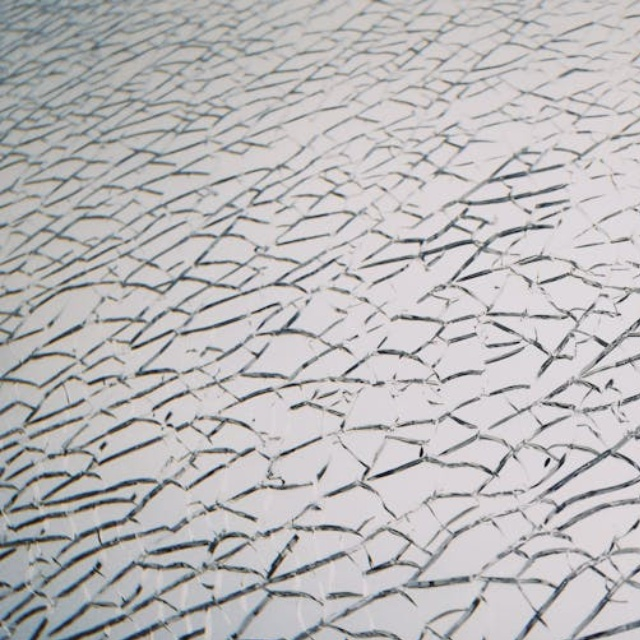细微裂纹: (0, 577, 357, 640), (467, 560, 640, 636)
